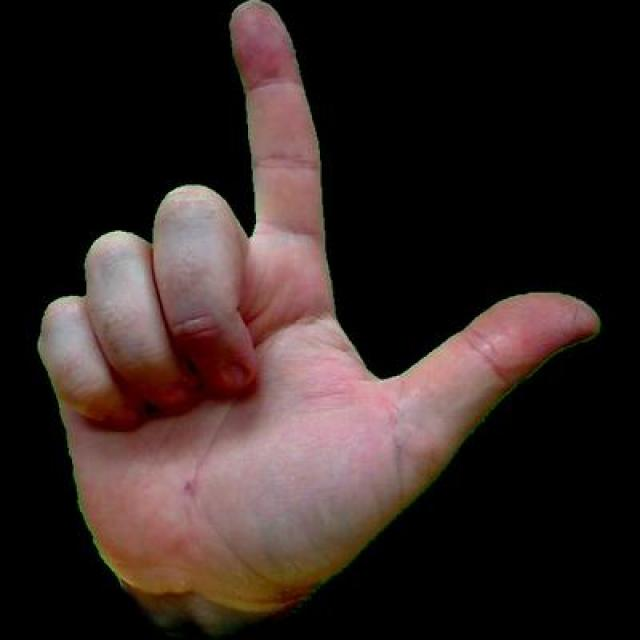l: (22, 0, 612, 637)
